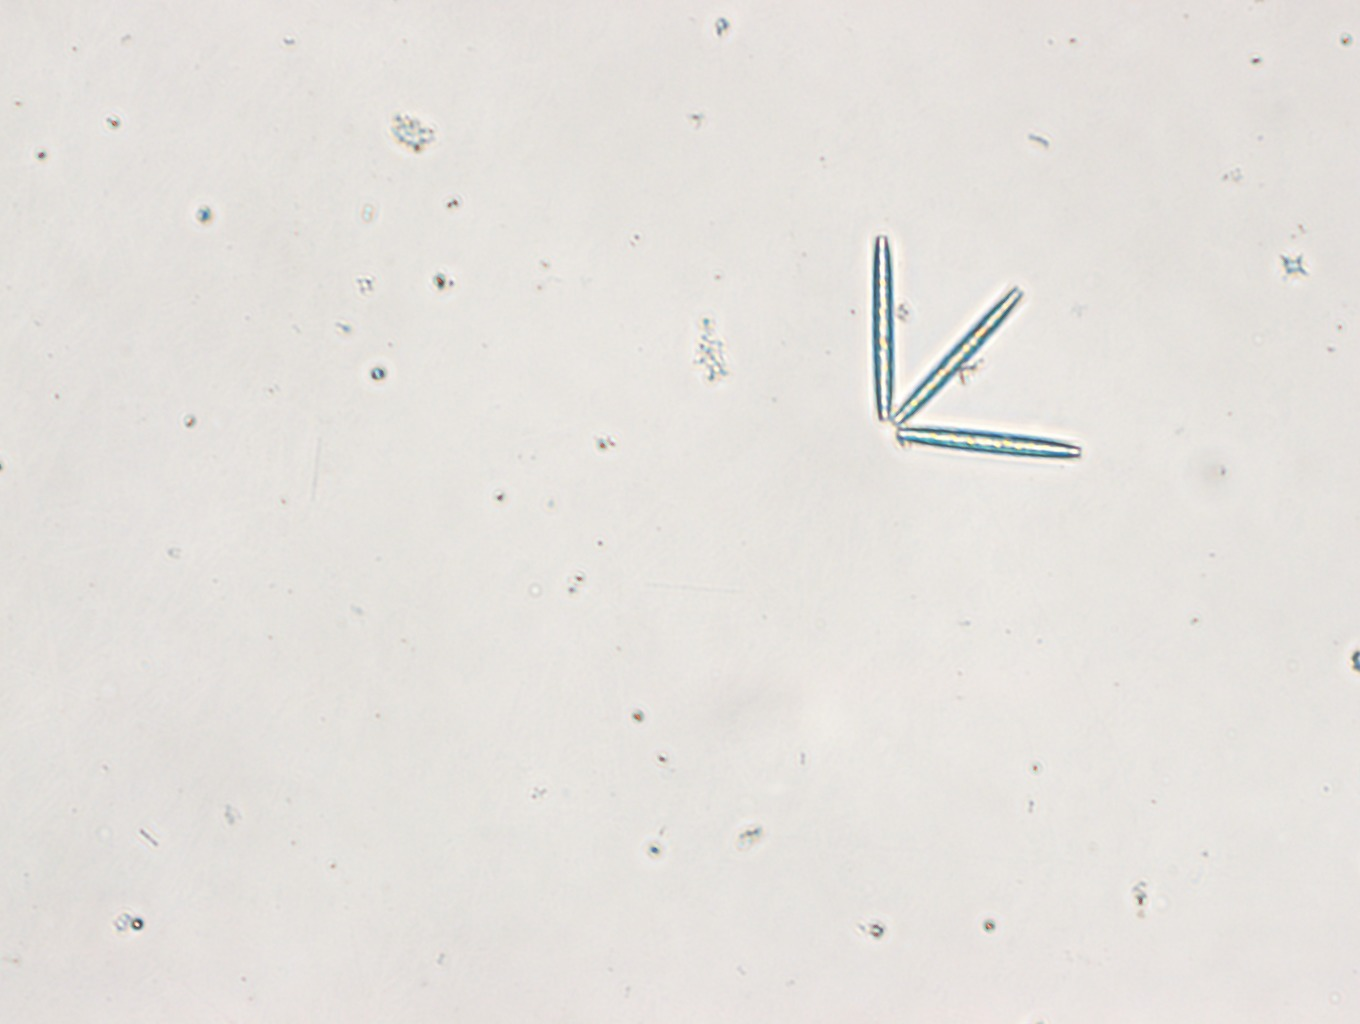thalassionema nitzschioides: (869, 230, 1083, 461)
